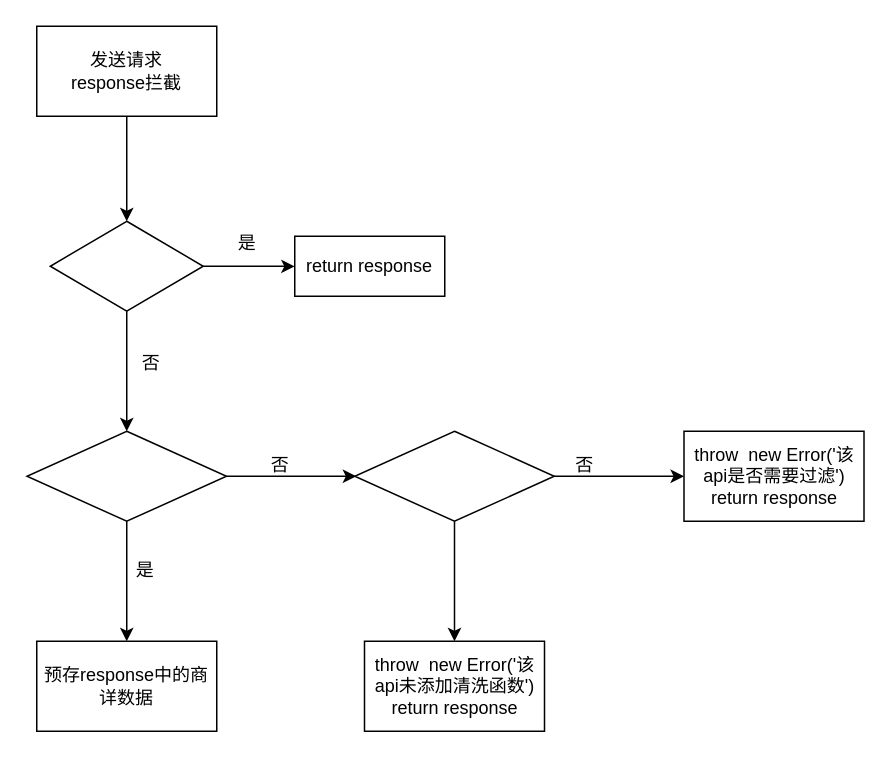
This 890x758 diagram has some shape labels left out. The shapes that lost their labels are listed below. From the top down, each one's box as (x1, y1, x2, y2) in pixels, then its label:
(49, 220, 203, 311): 是否过滤该api
(26, 430, 226, 521): 是否存在清洗函数
(353, 430, 554, 521): 是否存在商品相关字段
